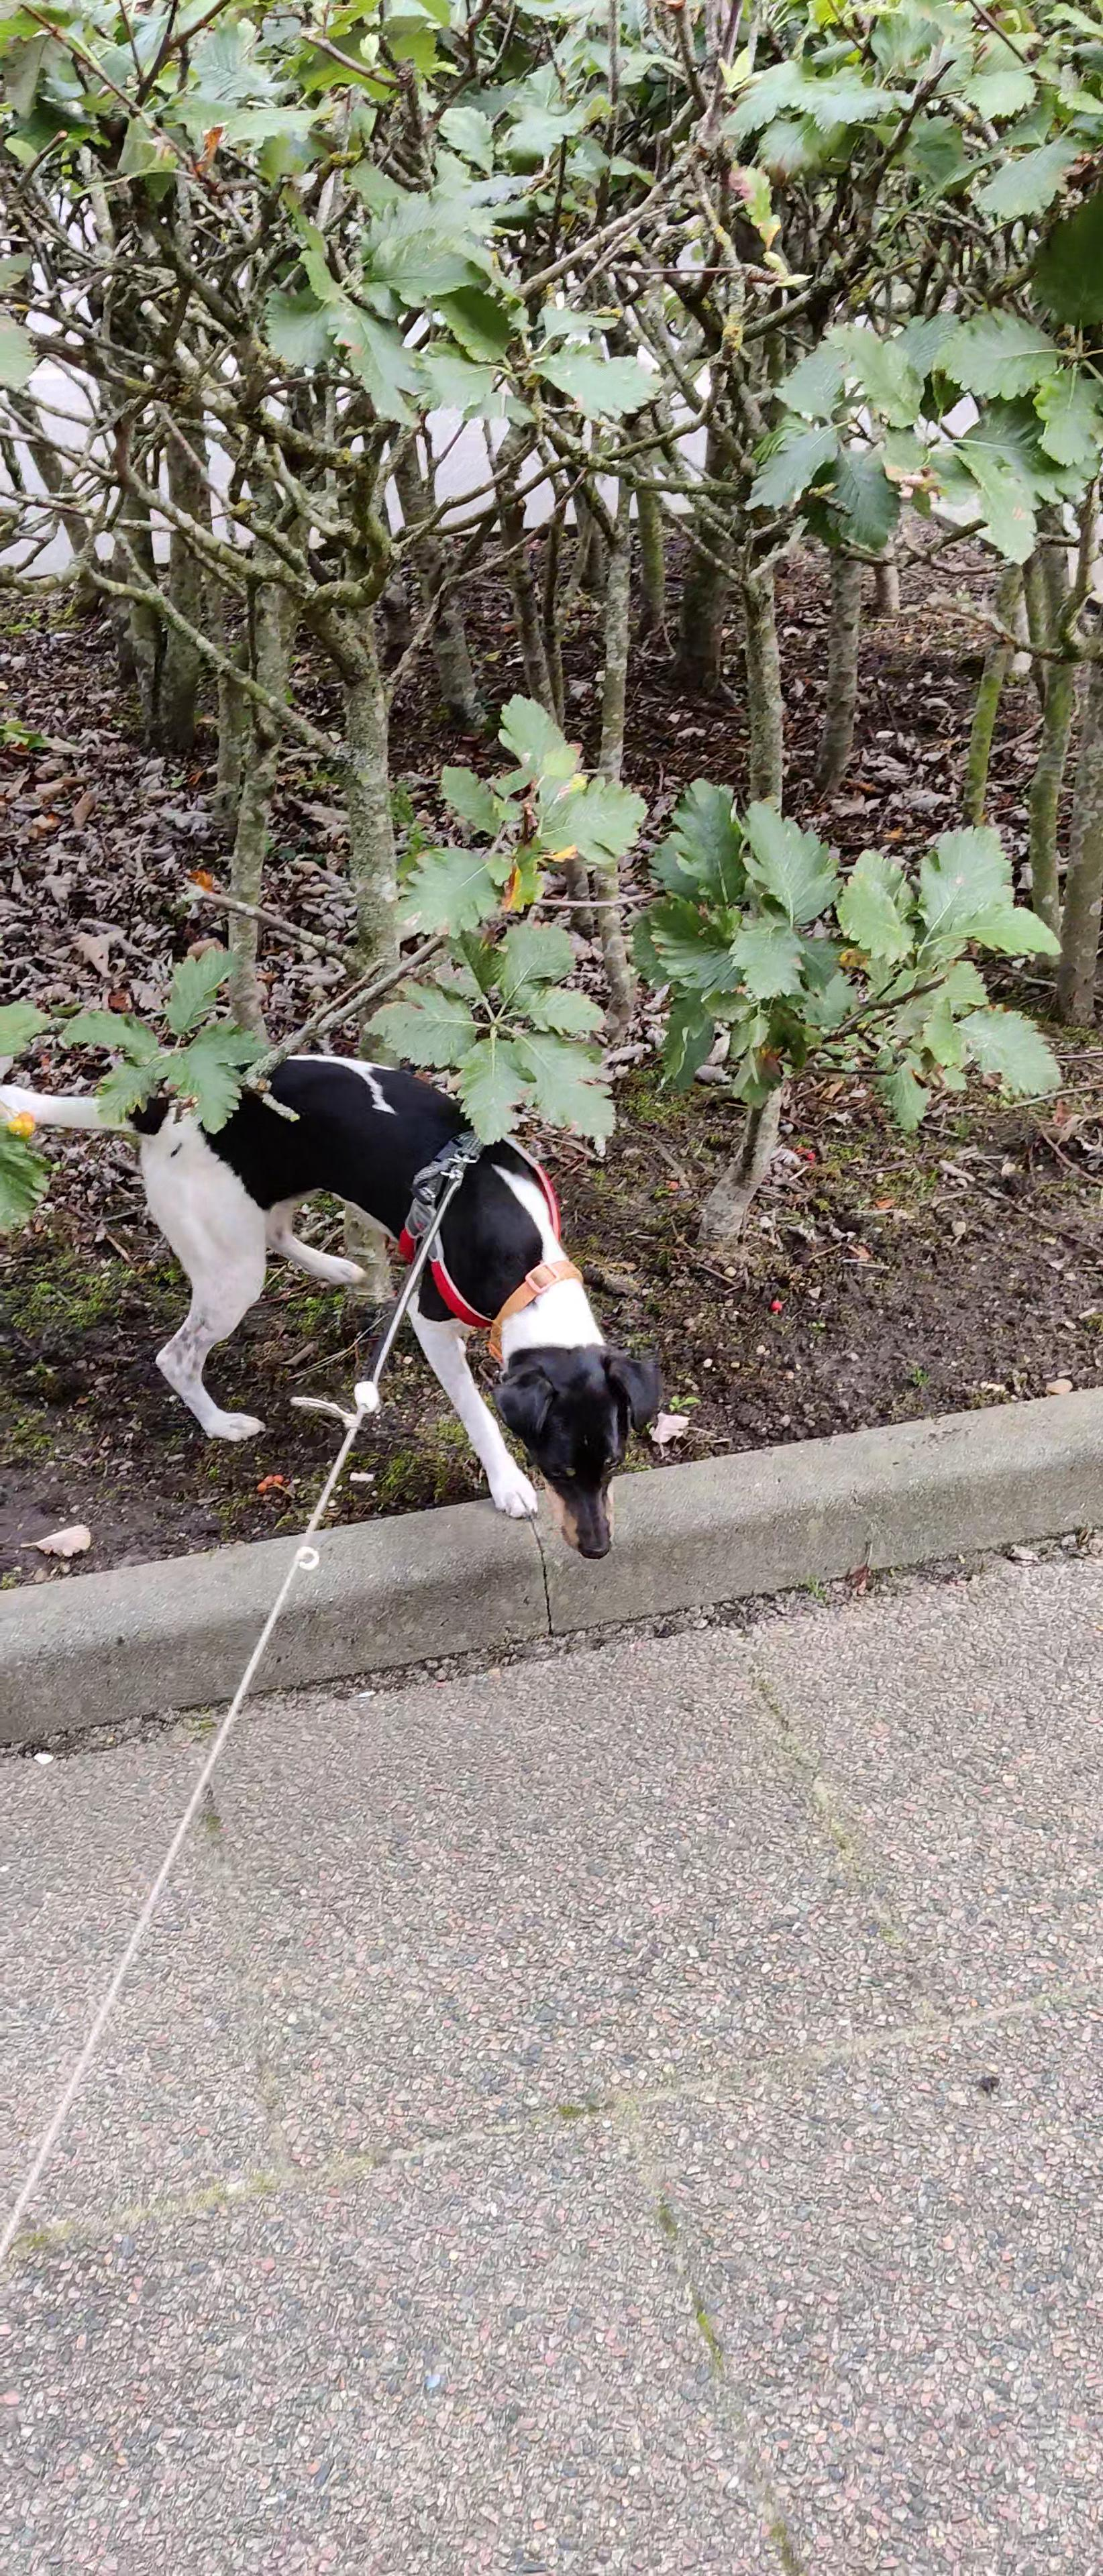Dog: (0, 1038, 699, 1572)
